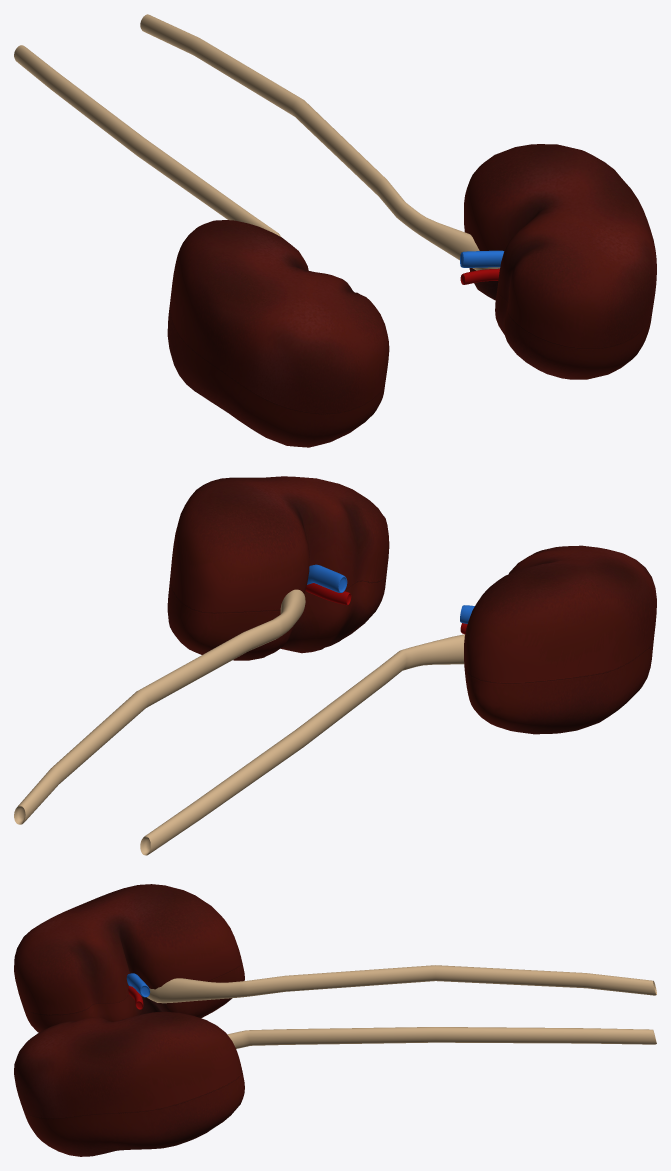
File: kidney.obj
The picture shows the model from 3 angles, top to bottom: view 1: azimuth 30°, elevation 25°; view 2: azimuth 150°, elevation 25°; view 3: azimuth 270°, elevation 25°; orthographic projection. The views are drawn at different scales.
Parts seen in each view (by area): view 1: Kidney; view 2: Kidney; view 3: Kidney.
Part boxes in pixels (<box>): Kidney: <box>14,14,656,447</box>; Kidney: <box>14,476,656,855</box>; Kidney: <box>14,884,656,1156</box>.
Bounding box in the file's own units: 5.02 × 1.95 × 8.04.
